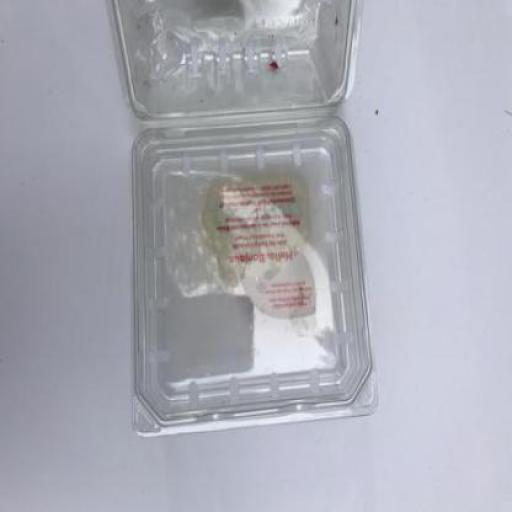plastic: (105, 2, 382, 440), (129, 113, 381, 437), (106, 1, 365, 128)
